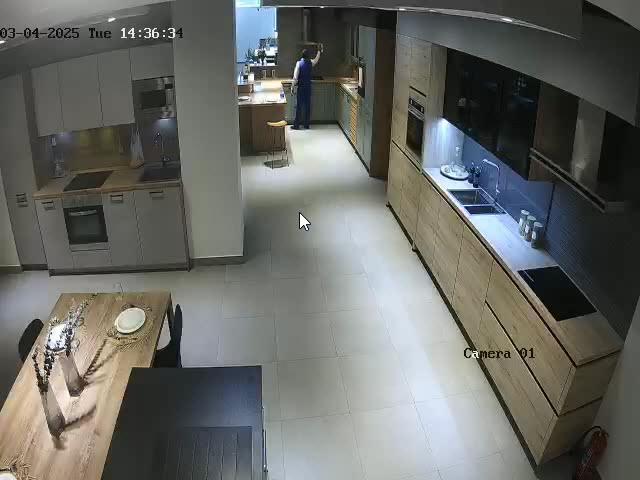employee: (290, 47, 320, 130)
